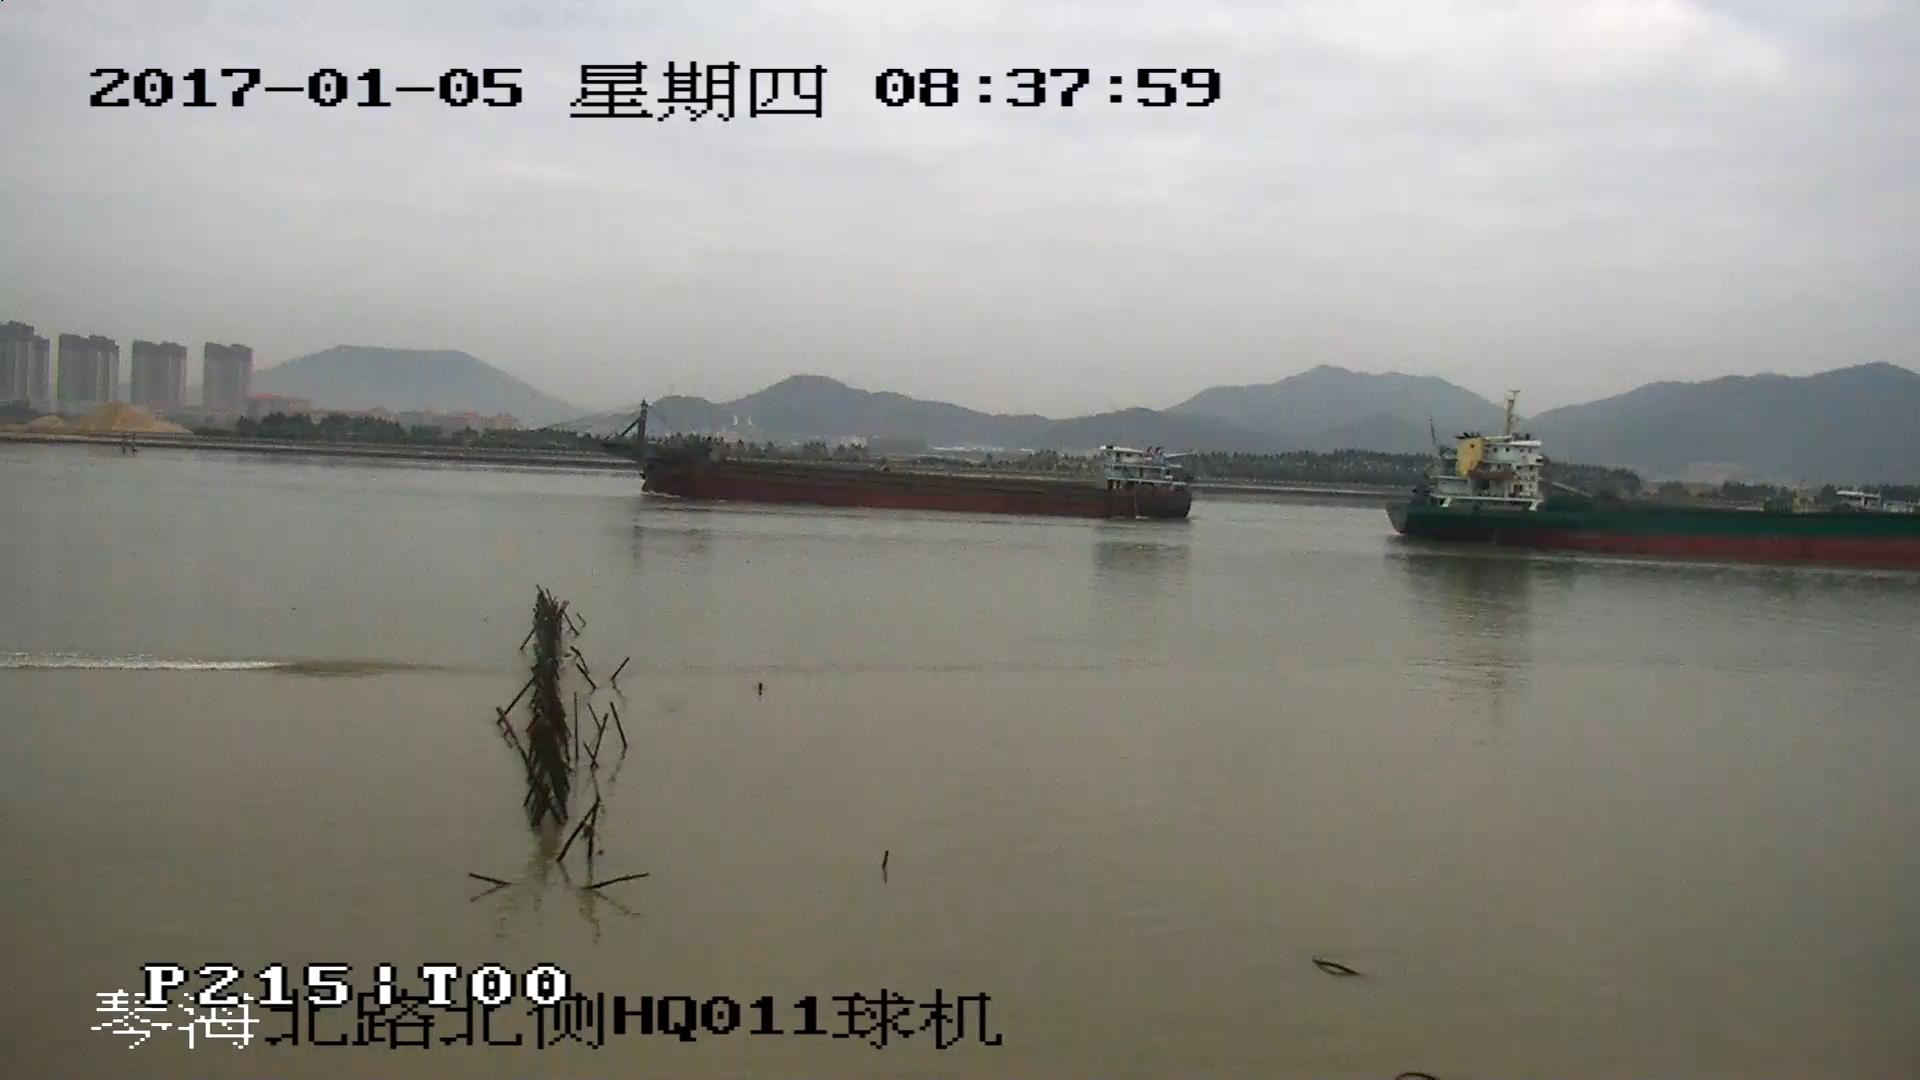bulk cargo carrier: (590, 412, 1196, 516)
general cargo ship: (1382, 398, 1920, 571)
